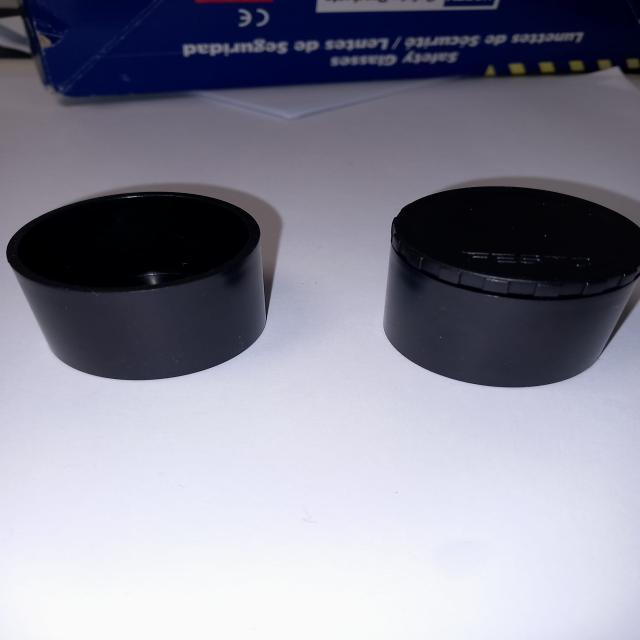NoLid: (2, 167, 315, 404)
Workpiece: (385, 168, 640, 388)
